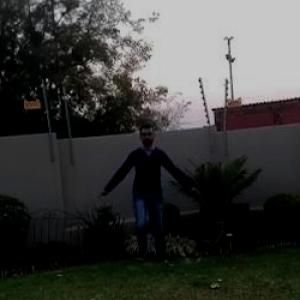land: (94, 120, 204, 266)
